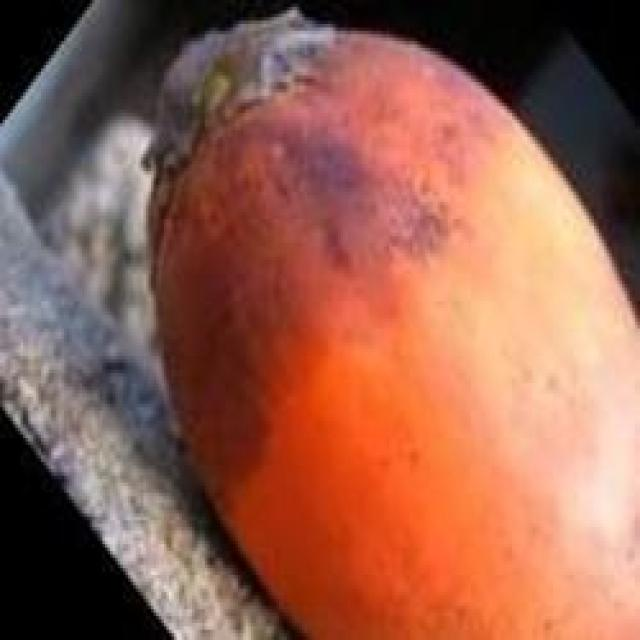good: (143, 10, 637, 637)
